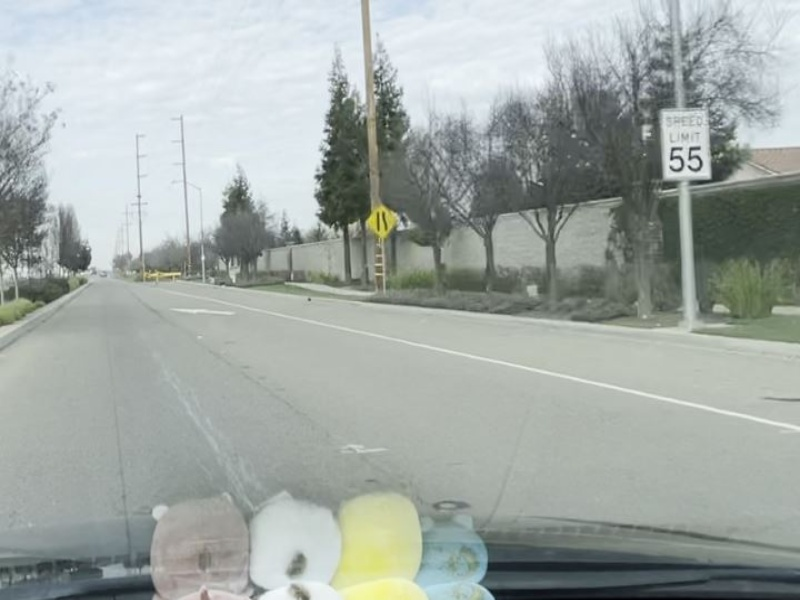merge sign: (362, 203, 400, 240)
speed limit sign: (655, 106, 716, 183)
